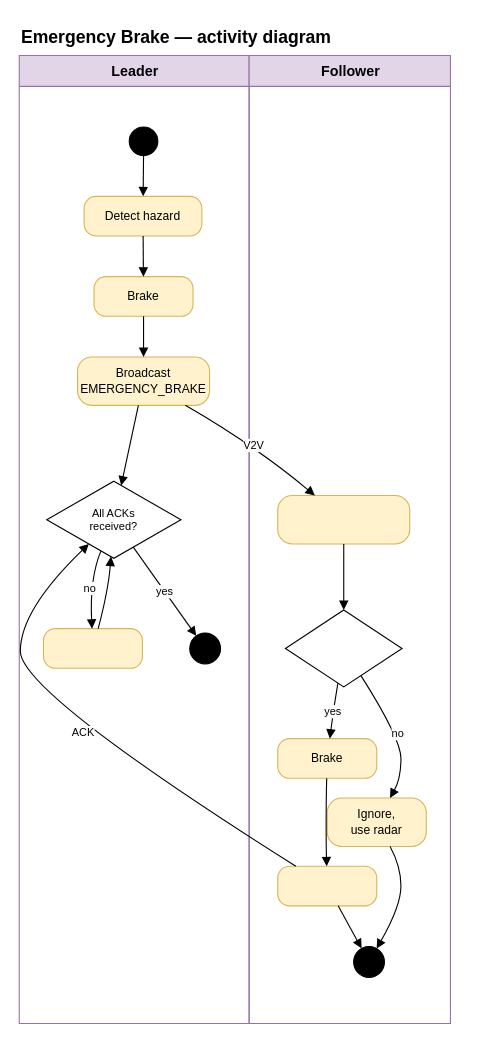
Some shapes in this 490 by 1043 pixel diagram are drawn without their labels. The shapes that lost their labels are listed below. From the top down, each one's centre as x and y in pixels, then its label:
At pixel 343 519: "Receive EMERGENCY_BRAKE".
At pixel 92 648: "Resend".
At pixel 343 648: "Message valid?".
At pixel 327 885: "Send ACK".
